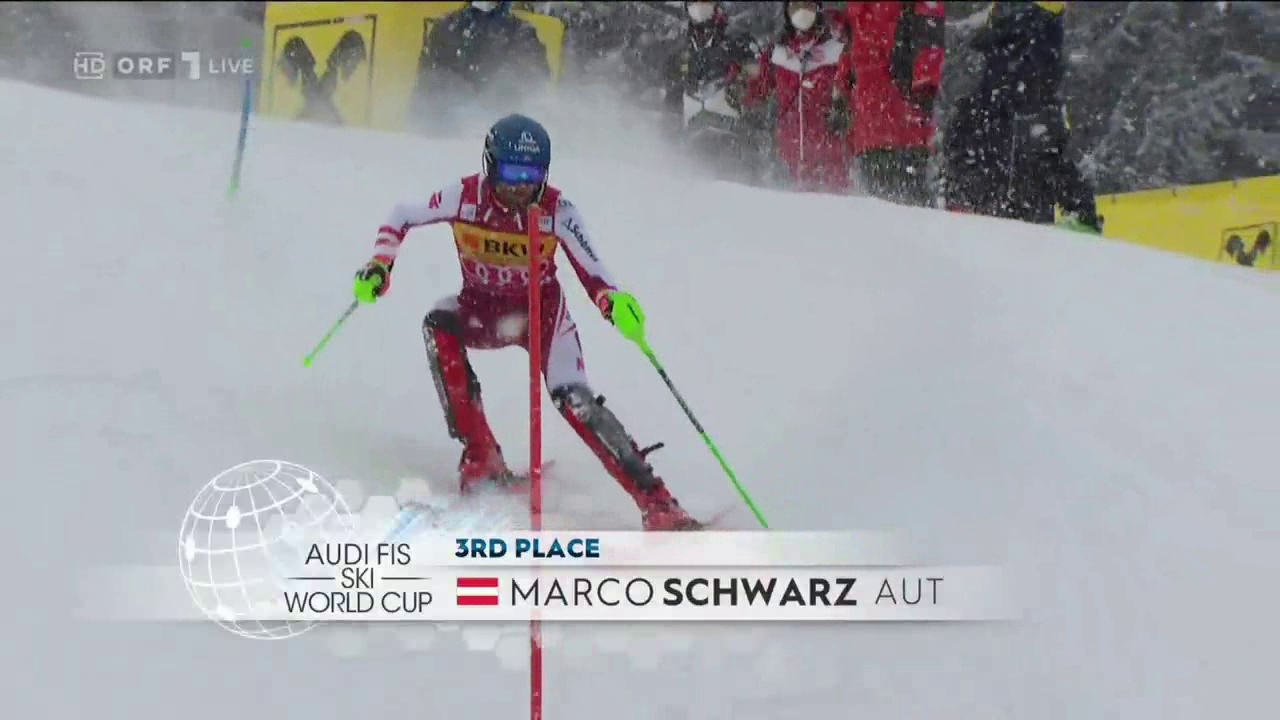a1: (428, 191, 448, 212)
